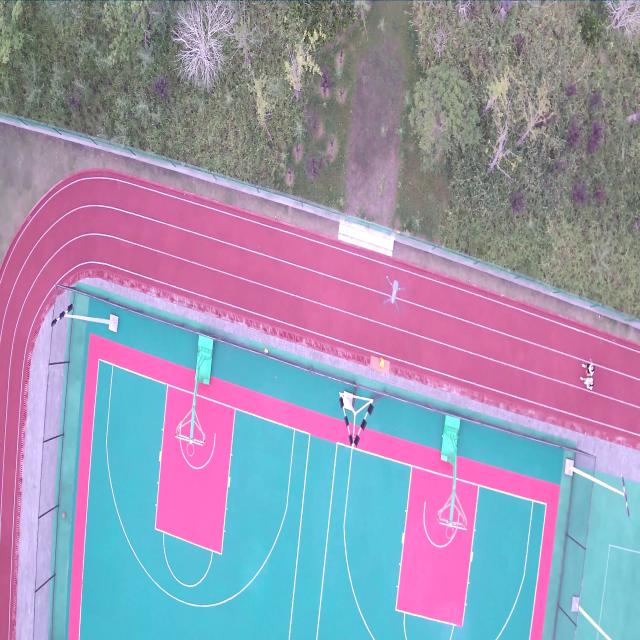UAV: (382, 274, 407, 314)
